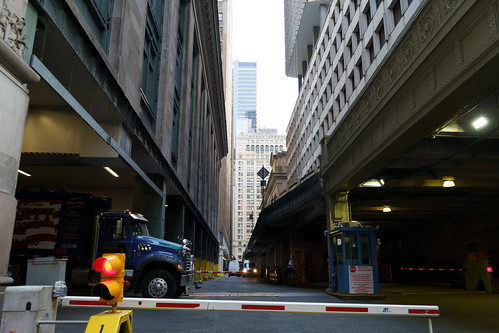building: (284, 1, 499, 291), (1, 1, 215, 286), (230, 59, 283, 243)
truck: (12, 194, 189, 292)
